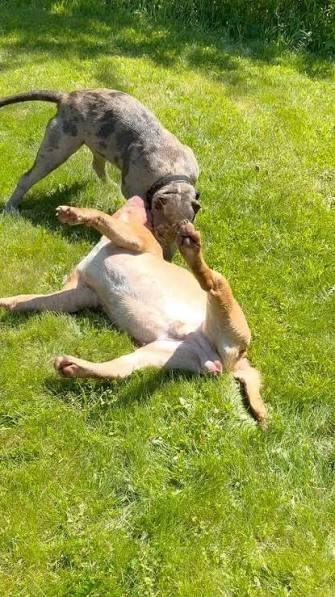adult_dog: (0, 196, 270, 428), (0, 88, 205, 265)
